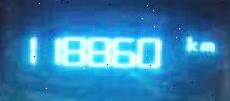0: (135, 36, 160, 67)
1: (25, 35, 36, 65), (51, 36, 60, 63)
6: (110, 36, 135, 66)
8: (60, 35, 85, 66), (85, 36, 110, 66)
X: (183, 35, 196, 51), (198, 40, 214, 51)
